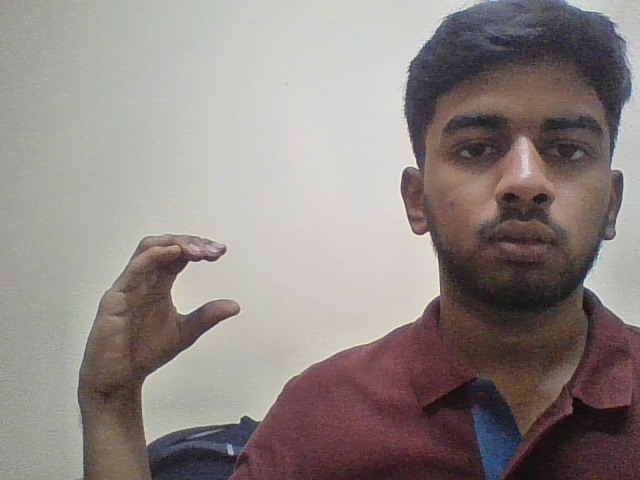C: (62, 214, 257, 389)
